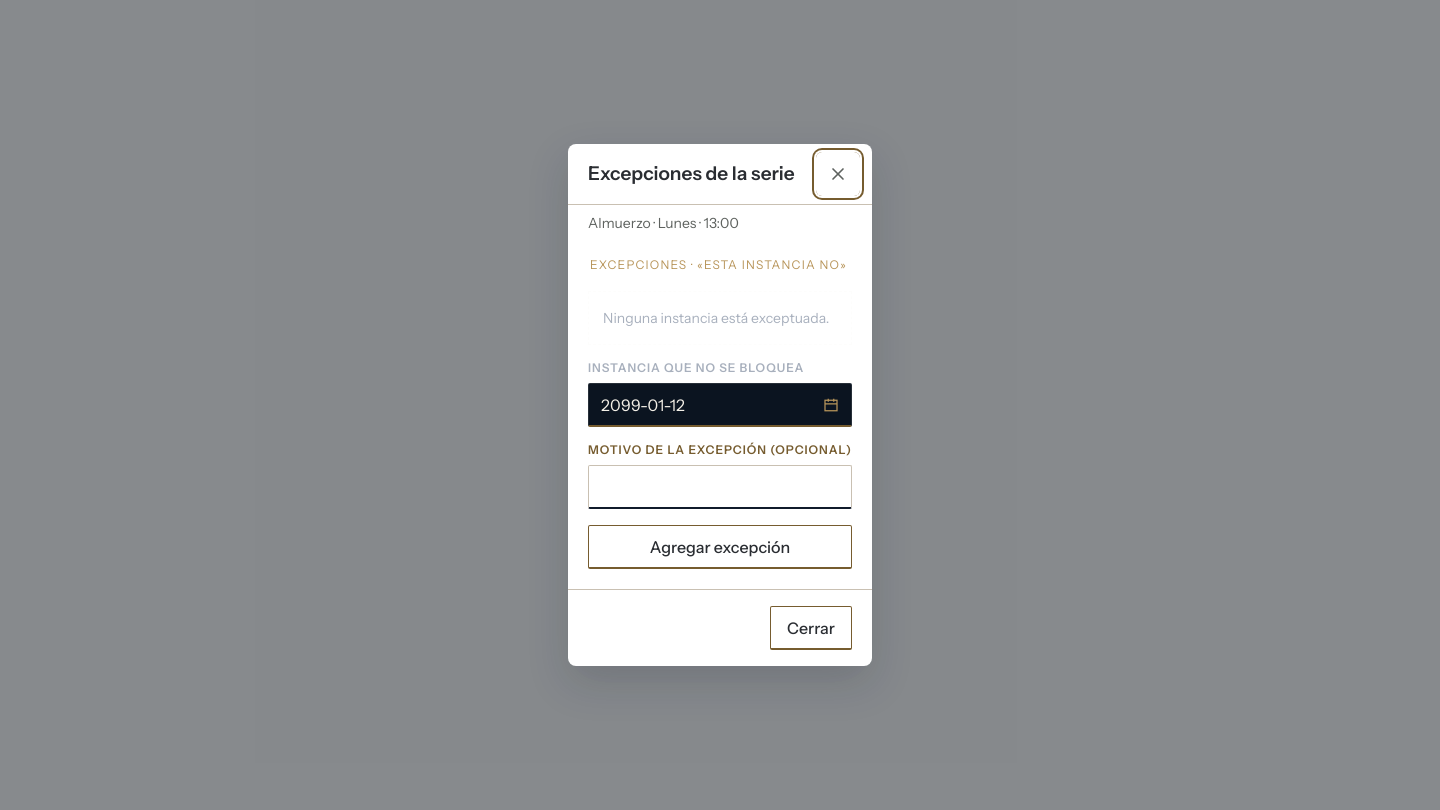
Test: SeriesInstancesDialog › sends a null reason when none was written and reports a duplicate exception
Click the button "Agregar excepción" at (720, 547), box [588,525,852,569]
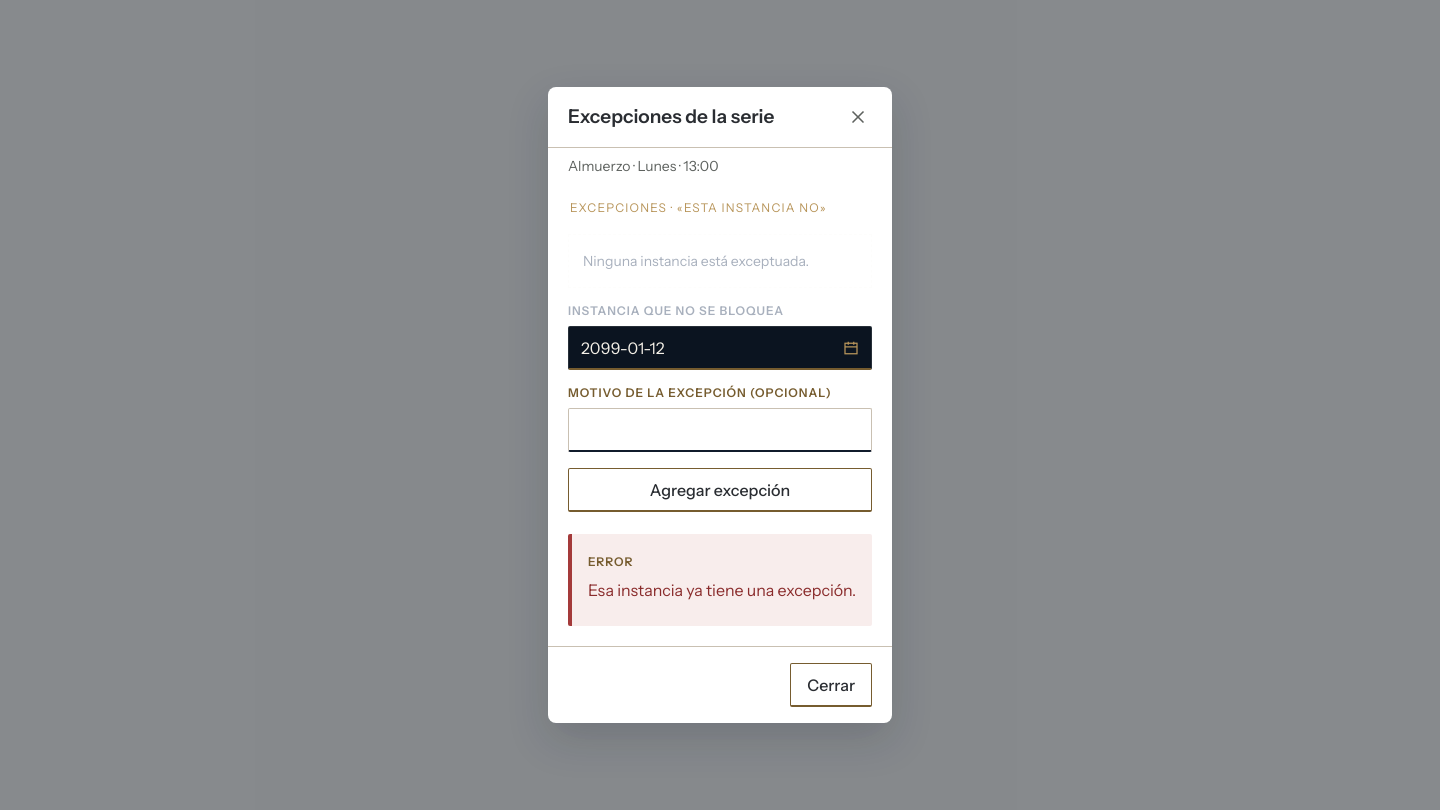
Expected: the text "Esa instancia ya tiene una excepción." is shown, [588,580,856,600]
